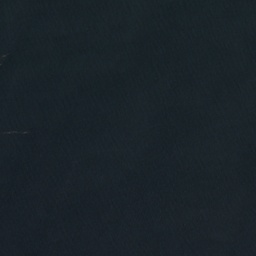Marine Debris: (0, 130, 29, 136), (0, 55, 6, 67)
